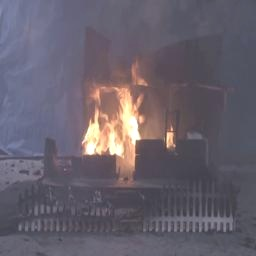fire: (84, 68, 146, 170)
